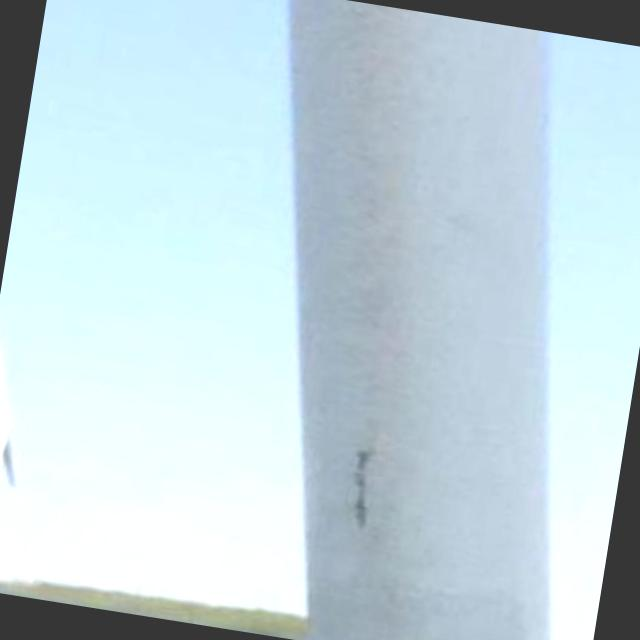crack: (348, 448, 382, 534)
